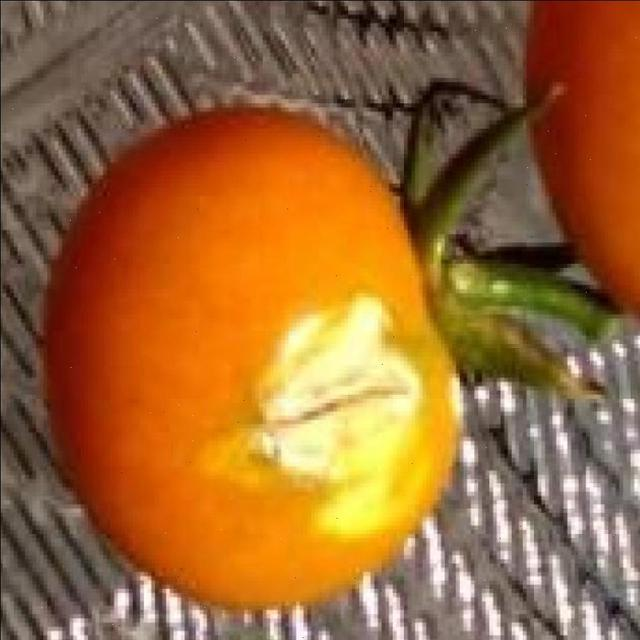Sunscald Fruit: (124, 171, 297, 380)
